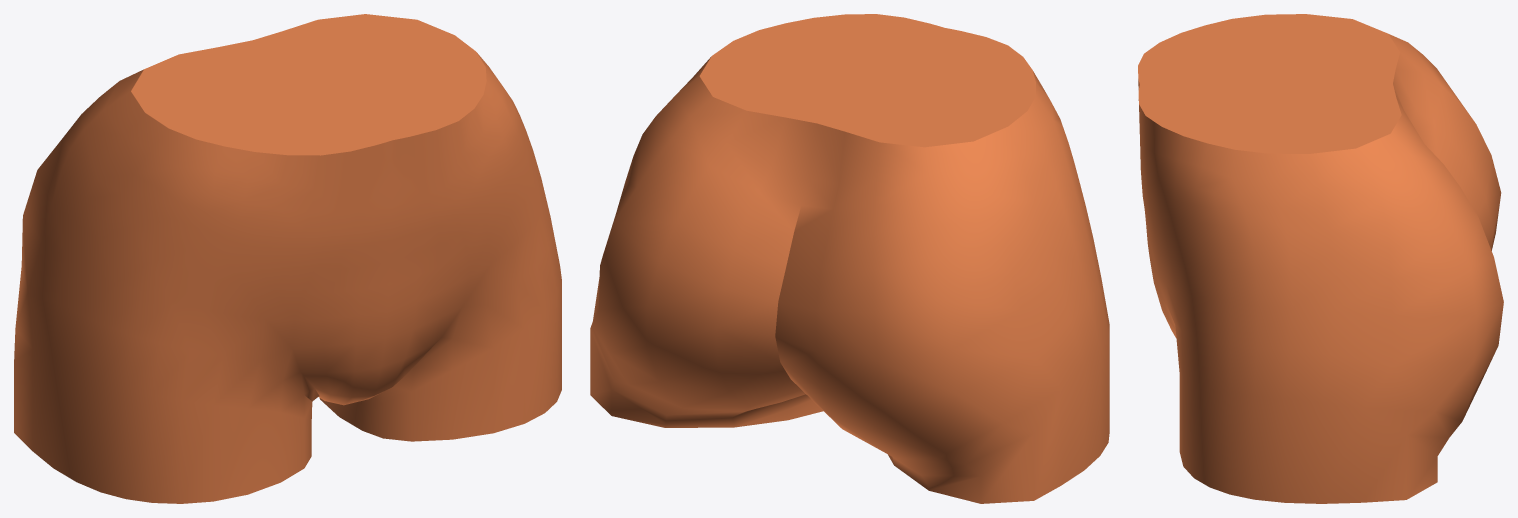
The model's file is ButtBeware.fbx.
The picture shows the model from 3 angles, left to right: view 1: azimuth 30°, elevation 25°; view 2: azimuth 150°, elevation 25°; view 3: azimuth 270°, elevation 25°; orthographic projection. The views are drawn at different scales.
Visible parts, largest first — view 1: Body.001; view 2: Body.001; view 3: Body.001.
Part boxes in pixels (x1,y1,x2,y2): Body.001: [14, 14, 561, 503]; Body.001: [590, 14, 1109, 503]; Body.001: [1138, 14, 1503, 503].
Bounding box in the file's own units: 34.82 × 23.36 × 24.84.
